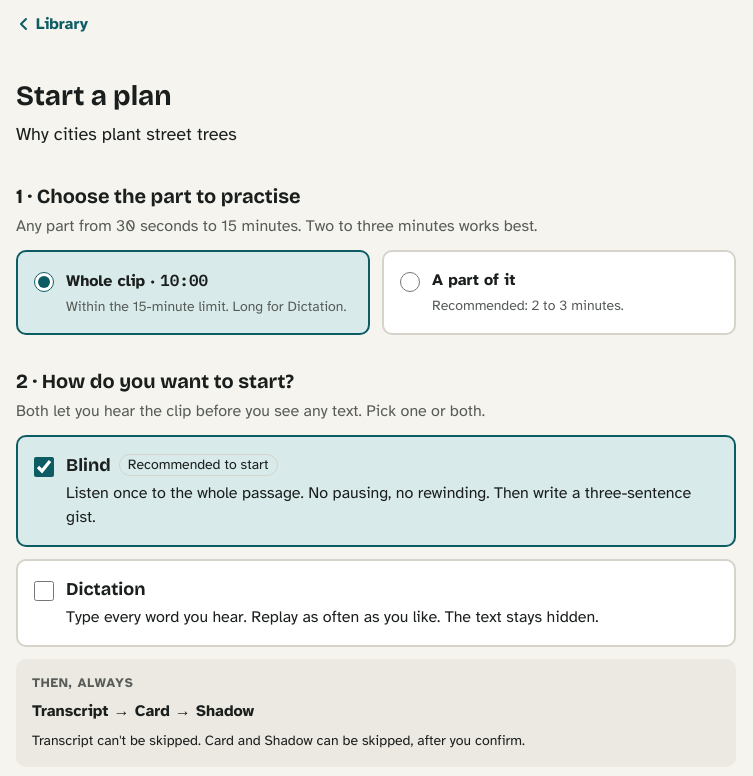
Test: a part starts as 2:30 from the first speech, drawn on the waveform
This screenshot has width=753, height=776.
Click the radio button labelled "A part of it Recommended: 2 to 3 minutes.": click(410, 282) [400,272,420,292]
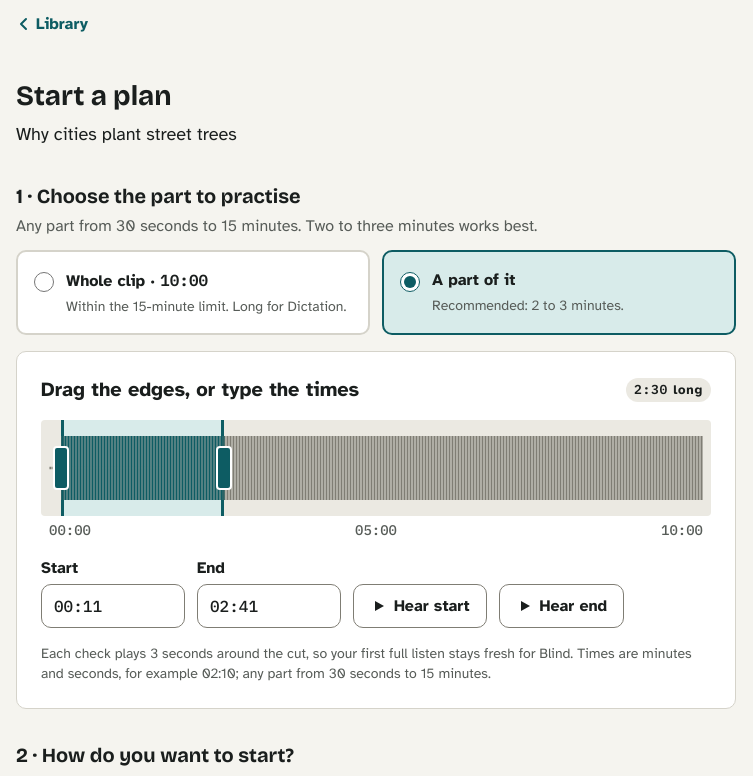
expect the heading "Drag the edges, or type the times" is shown: met, box [41,376,359,404]
expect the field labelled "Start" holds "00:11": met, box [41,584,185,628]
expect the field labelled "End" holds "02:41": met, box [197,584,341,628]
